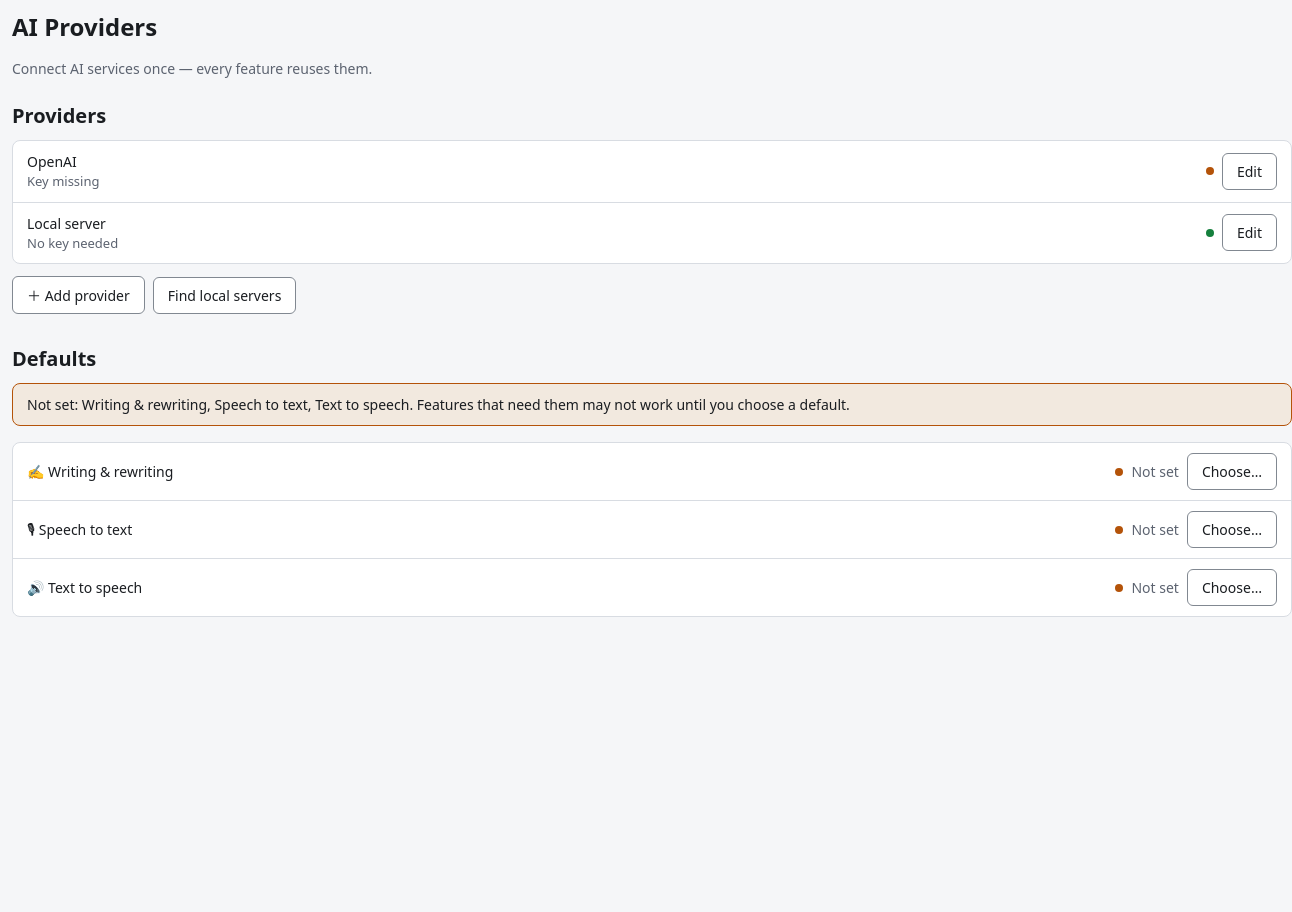
Test: AiProvidersPage — adding a custom provider › rejects a name that yields no ref
Click the button "＋ Add provider": coordinates (78, 295) left=12, top=276, right=145, bottom=314
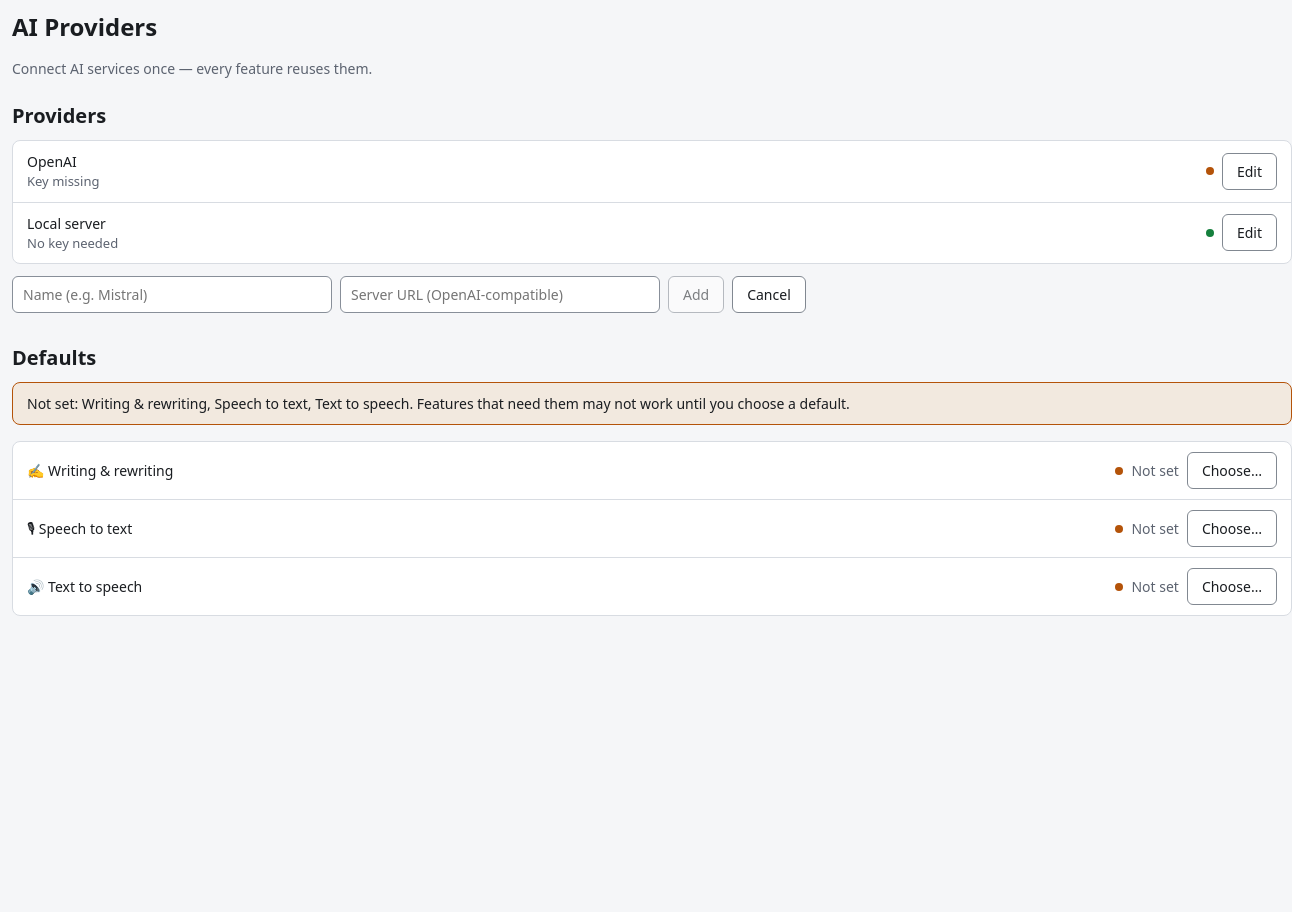
In the field named "Provider name": coordinates (172, 295) left=12, top=276, right=332, bottom=313, type "!!!"
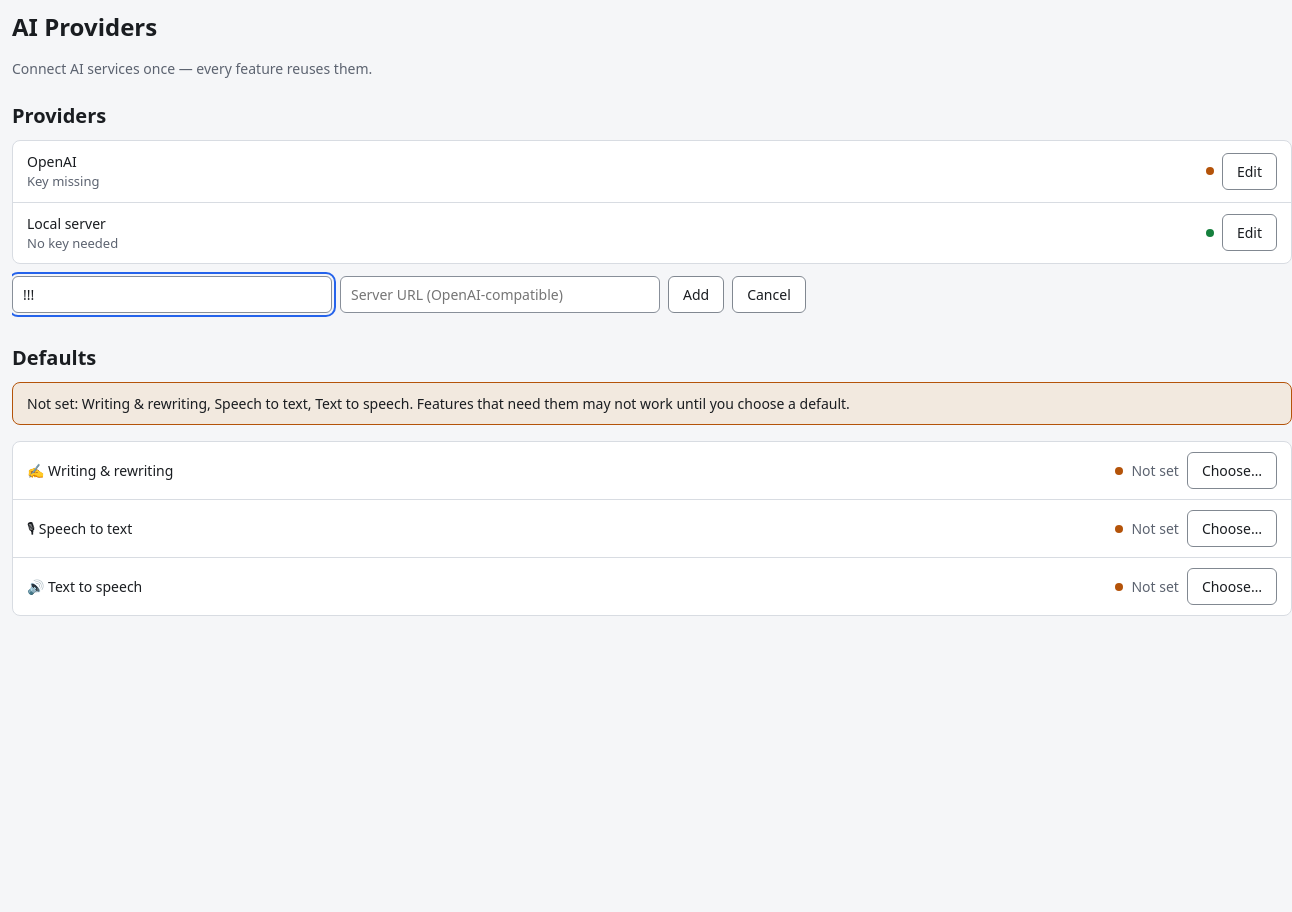
Click the button "Add": coordinates (696, 295) left=668, top=276, right=724, bottom=313
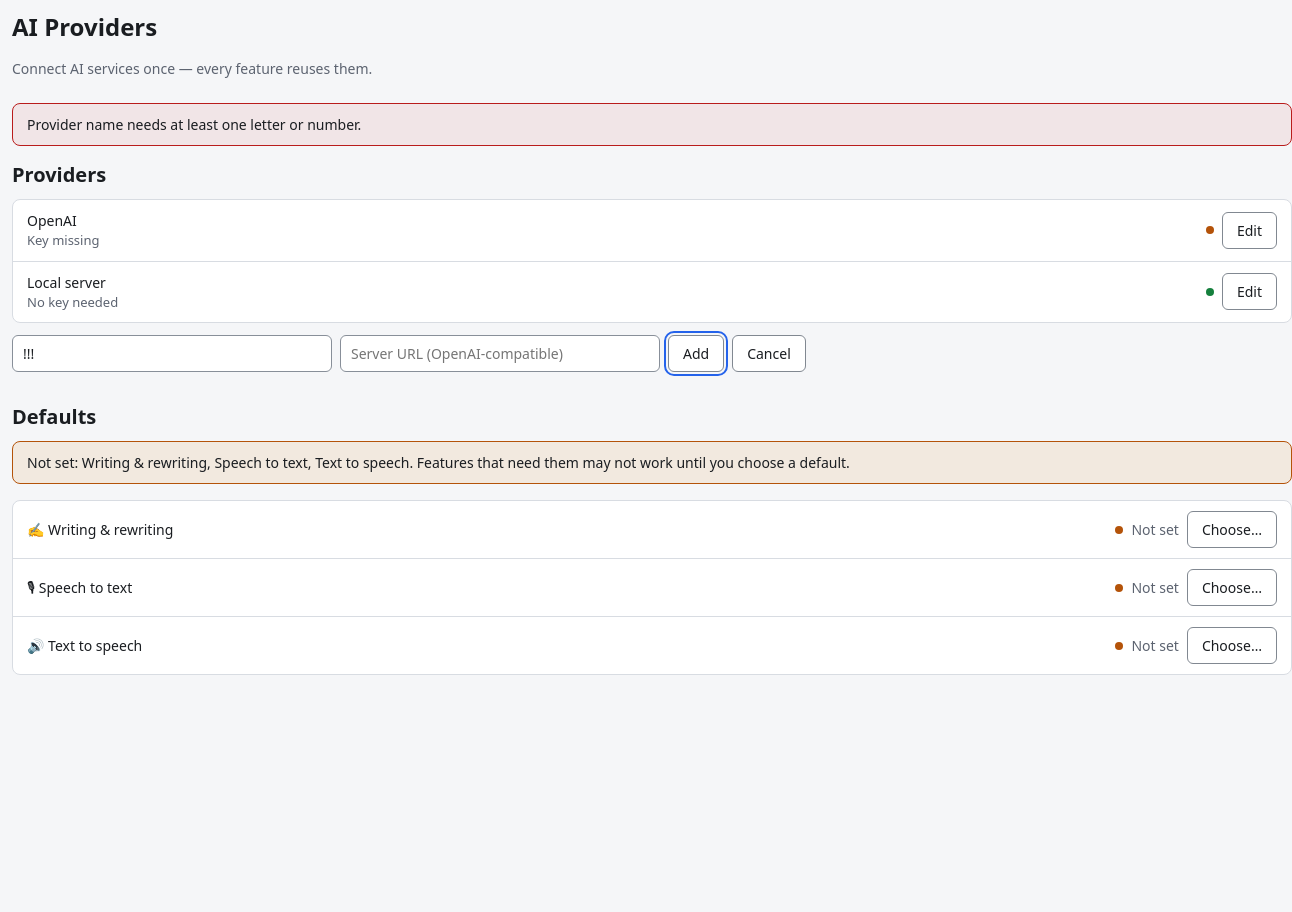
Now the text "Provider name needs at least one letter or number." is shown, box left=27, top=115, right=361, bottom=134
